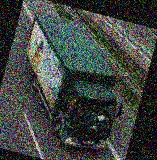truck: (5, 11, 135, 155)
